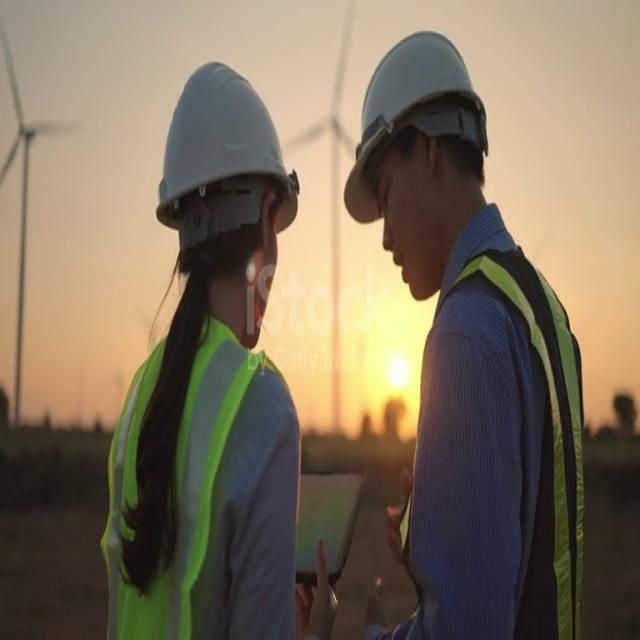capacete: (146, 54, 299, 255), (338, 26, 492, 224)
